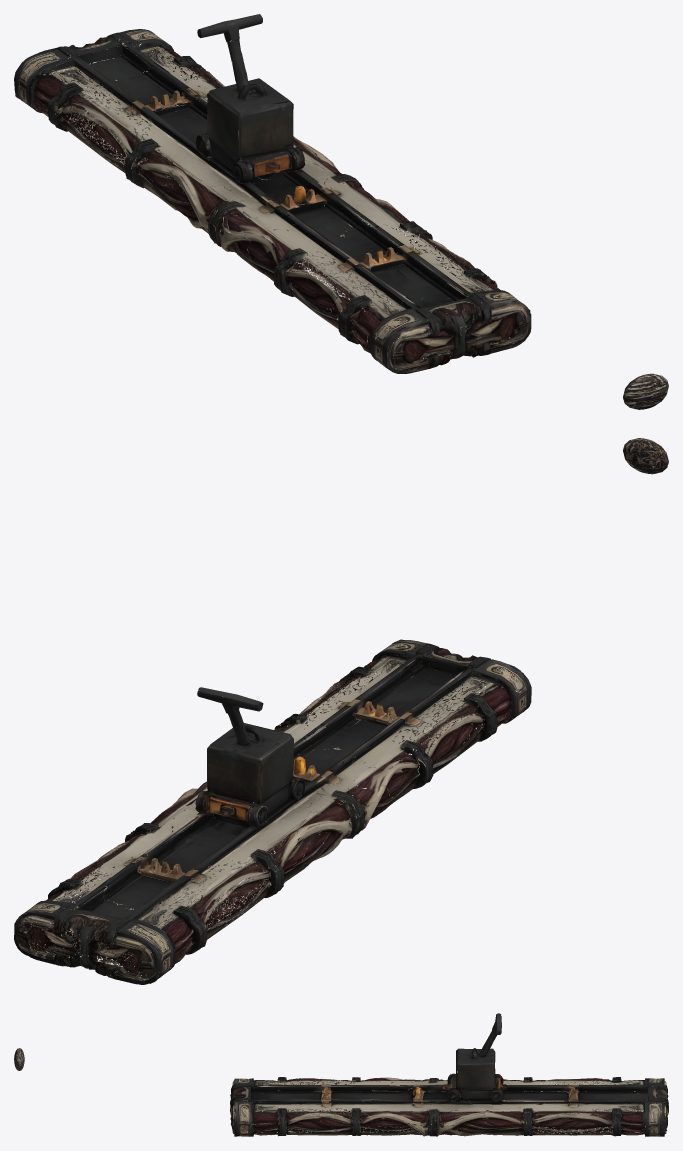
The model's file is evac_launch_mass_trim_track.glb.
3 views of the same model, one above another, from view 1: azimuth 30°, elevation 25°; view 2: azimuth 150°, elevation 25°; view 3: azimuth 270°, elevation 25° (orthographic). The views are drawn at different scales.
Visible parts, largest first — view 1: node_0, HB_PULSE_00; view 2: node_0, HB_PULSE_00; view 3: node_0.
Boxes of the visible parts, bbox=[...] form: node_0: bbox=[14, 14, 531, 373]; HB_PULSE_00: bbox=[623, 373, 668, 409]; node_0: bbox=[14, 639, 531, 984]; HB_PULSE_00: bbox=[623, 438, 668, 474]; node_0: bbox=[230, 1013, 668, 1136].
Bounding box in the file's own units: 0.271 × 0.2954 × 1.74.
1 material, 1 textured.
